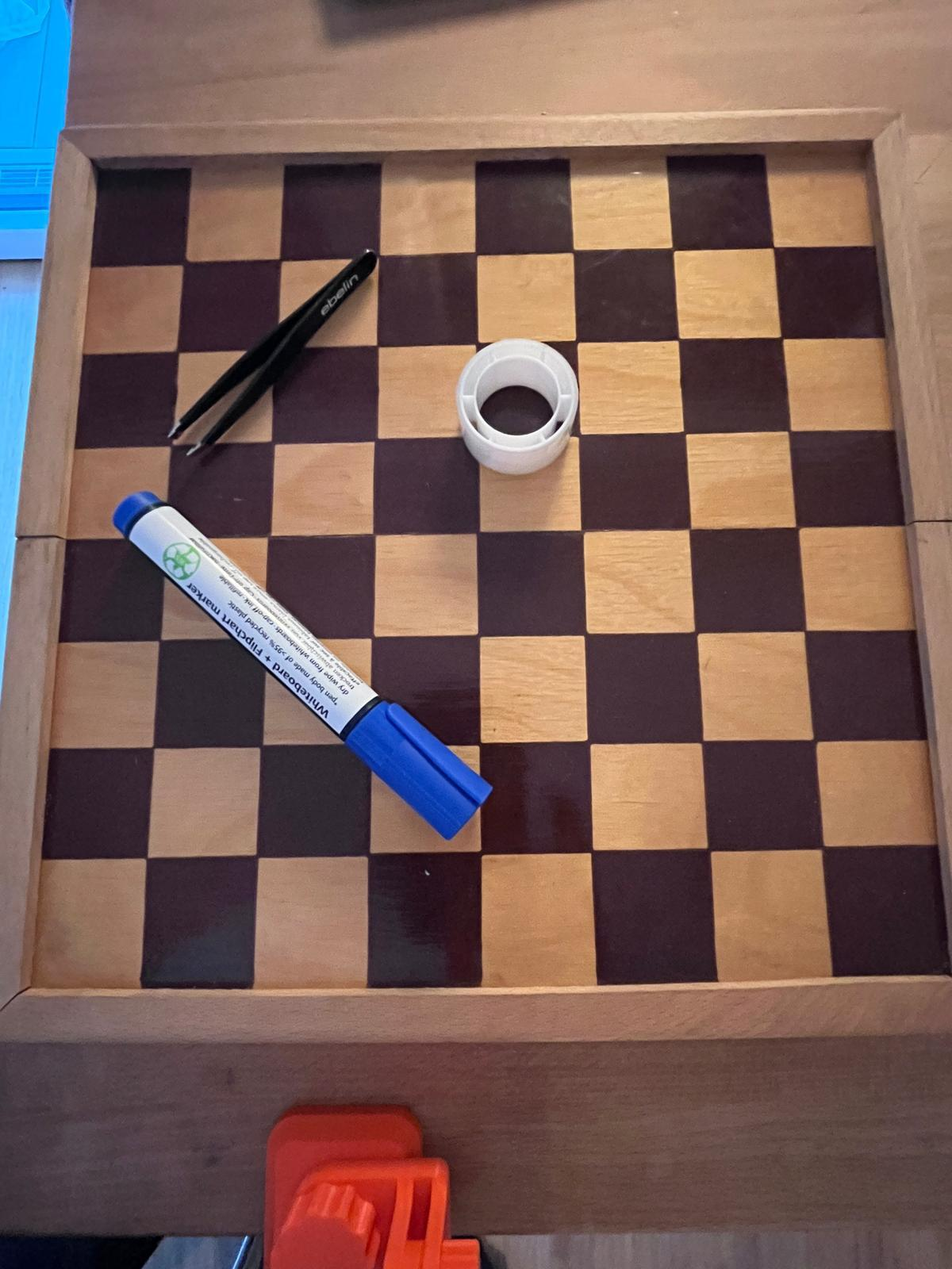marker: (105, 492, 500, 836)
tape: (452, 333, 582, 471)
tweezer: (167, 252, 381, 463)
